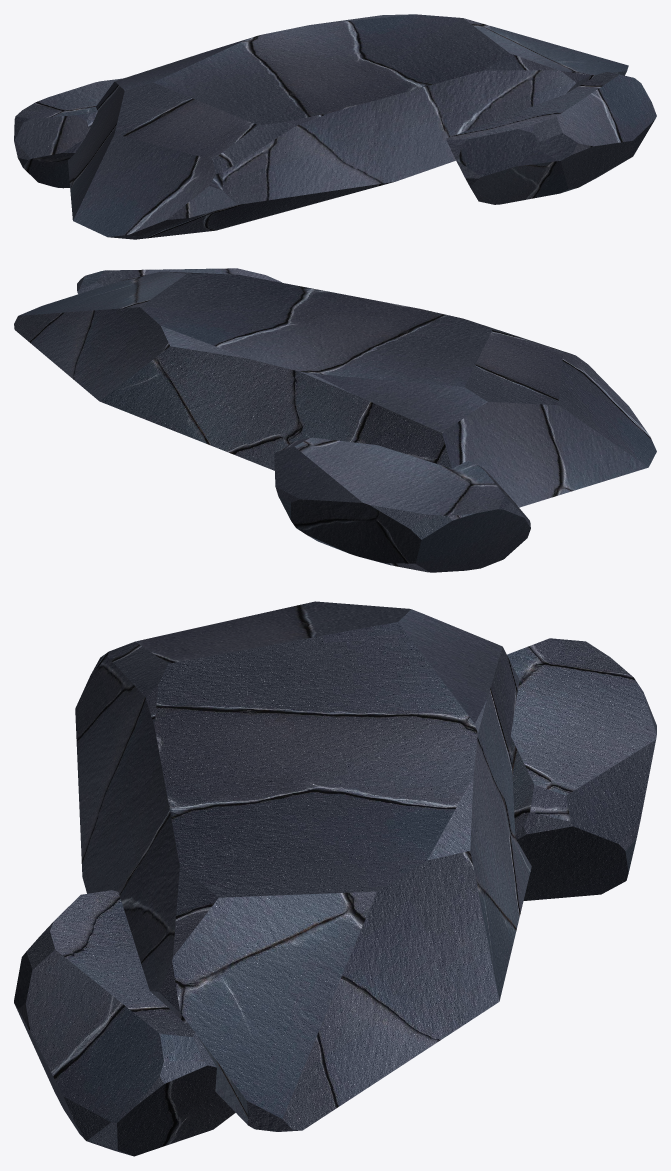
The model's file is Plateformes cassantes.fbx.
3 renders of one model, top to bottom at view 1: azimuth 30°, elevation 25°; view 2: azimuth 150°, elevation 25°; view 3: azimuth 270°, elevation 25°, orthographic. The views are drawn at different scales.
Parts seen in each view (by area): view 1: Icosphere.042; view 2: Icosphere.042; view 3: Icosphere.042.
Part boxes in pixels (x1,y1,x2,y2): Icosphere.042: (14, 14, 656, 239); Icosphere.042: (14, 268, 656, 572); Icosphere.042: (14, 601, 656, 1156).
Bounding box in the file's own units: 523 × 106 × 292.
